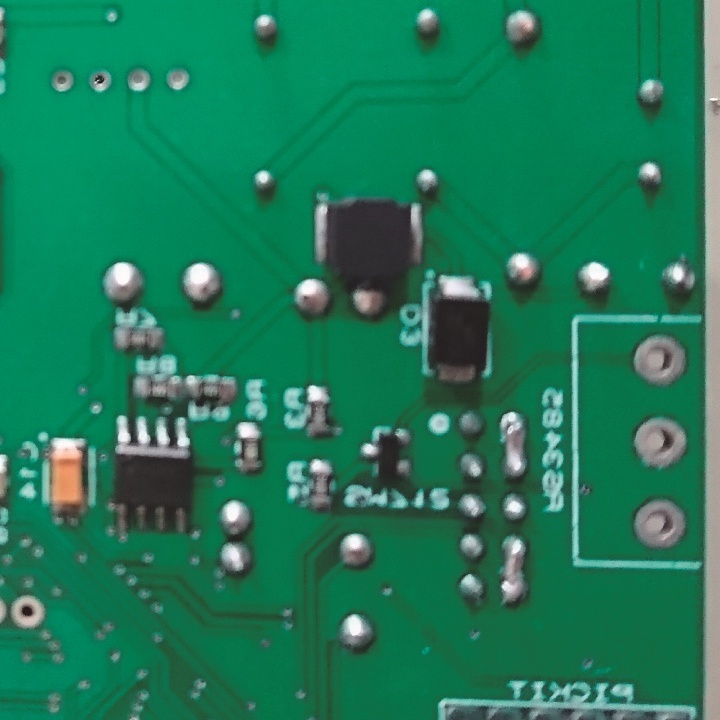F: (631, 492, 688, 554), (630, 414, 690, 472), (630, 331, 693, 386), (9, 592, 47, 631), (121, 60, 156, 97), (159, 59, 193, 95), (82, 63, 115, 96), (47, 66, 79, 97)
P: (494, 408, 531, 480), (499, 531, 528, 608)
